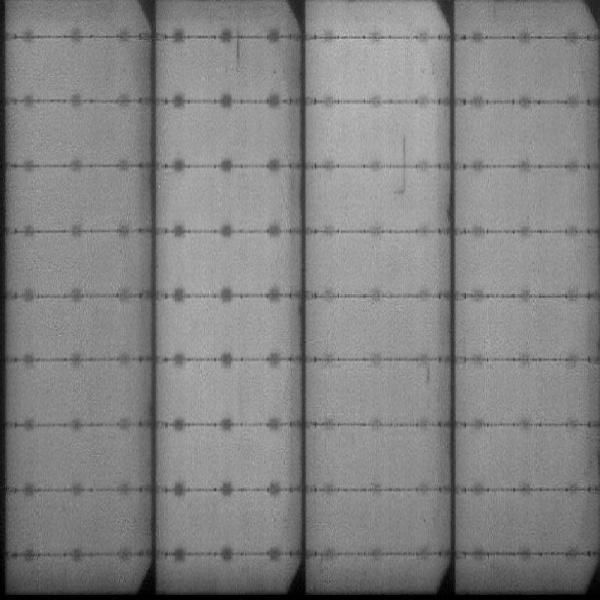scratch: (399, 135, 413, 192), (233, 23, 244, 71)
